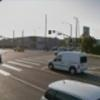crosswalks: (0, 54, 53, 80)
